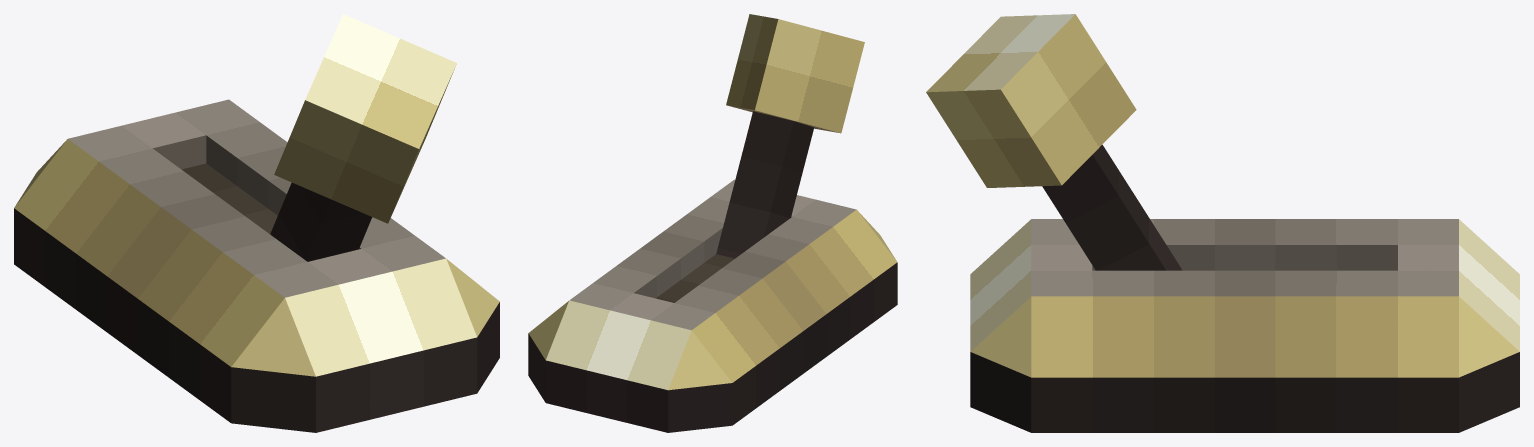
File: lever_2state_1.obj
3 renders of one model, left to right at view 1: azimuth 30°, elevation 25°; view 2: azimuth 150°, elevation 25°; view 3: azimuth 270°, elevation 25°, orthographic. The views are drawn at different scales.
Parts seen in each view (by area): view 1: 2-STATE_Circle.007, LEVER_Cube.049; view 2: 2-STATE_Circle.007, LEVER_Cube.049; view 3: 2-STATE_Circle.007, LEVER_Cube.049.
Part boxes in pixels (left/top/right/bottom): 2-STATE_Circle.007: left=14, top=99, right=499, bottom=432; LEVER_Cube.049: left=270, top=14, right=456, bottom=261; 2-STATE_Circle.007: left=528, top=179, right=897, bottom=432; LEVER_Cube.049: left=716, top=14, right=864, bottom=258; 2-STATE_Circle.007: left=970, top=219, right=1519, bottom=432; LEVER_Cube.049: left=926, top=14, right=1182, bottom=270.
Bounding box in the file's own units: 0.3125 × 0.4002 × 0.6078.
